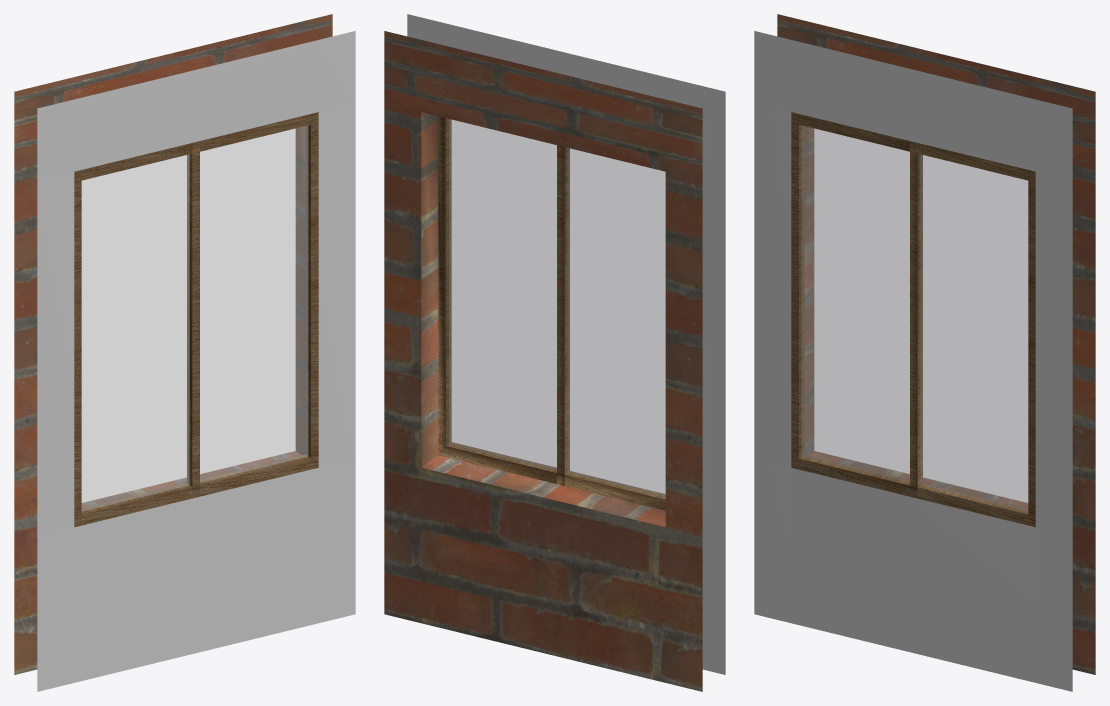
Rendered from Window_wall_incomplete.fbx.
3 renders of one model, left to right at view 1: azimuth 30°, elevation 25°; view 2: azimuth 150°, elevation 25°; view 3: azimuth 330°, elevation 25°, orthographic.
Parts seen in each view (by area): view 1: Window wall_incomplete, Window; view 2: Window wall_incomplete, Window; view 3: Window wall_incomplete, Window.
Boxes of the visible parts, x1,y1,x2,y2 form: Window wall_incomplete: [14, 14, 355, 691]; Window: [74, 112, 318, 527]; Window wall_incomplete: [384, 14, 725, 691]; Window: [438, 116, 665, 510]; Window wall_incomplete: [754, 14, 1095, 691]; Window: [791, 112, 1035, 527].
Bounding box in the file's own units: 400 × 700 × 50.
